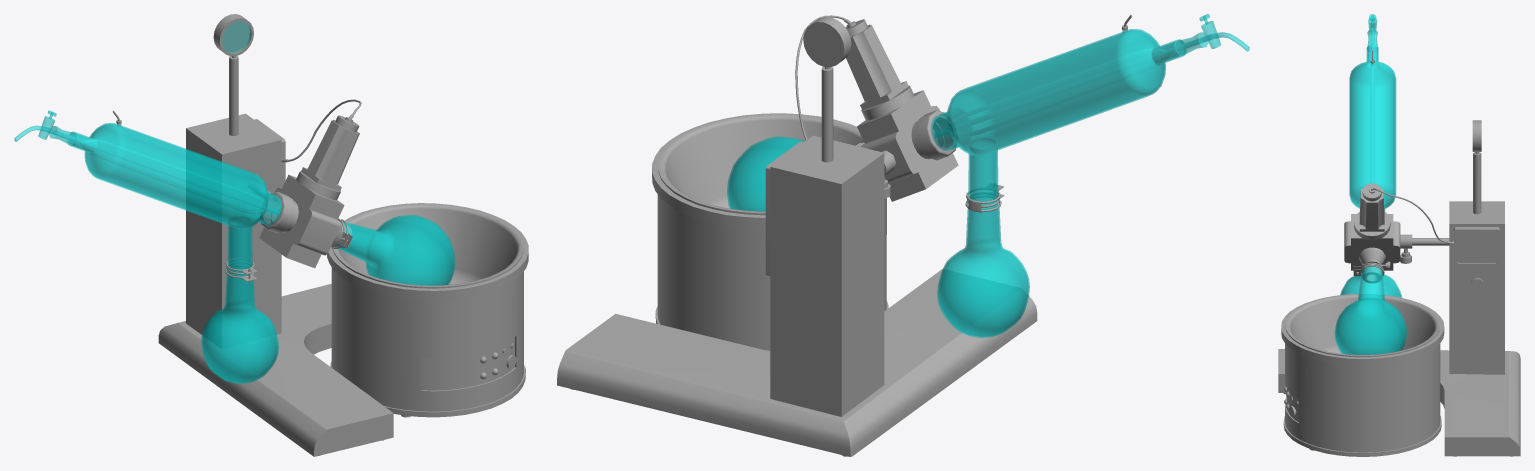
Rendered from SM_RotaryEvaporator.fbx.
3 views of the same model, side by side, from view 1: azimuth 30°, elevation 25°; view 2: azimuth 150°, elevation 25°; view 3: azimuth 270°, elevation 25° (orthographic). The views are drawn at different scales.
Parts seen in each view (by area): view 1: RotaryEvaporator; view 2: RotaryEvaporator; view 3: RotaryEvaporator.
Boxes of the visible parts, x1,y1,x2,y2 form: RotaryEvaporator: [14, 14, 528, 456]; RotaryEvaporator: [557, 14, 1249, 456]; RotaryEvaporator: [1278, 14, 1520, 456].
Size of what is drawn, in the model's own units: 80 by 55 by 44.
